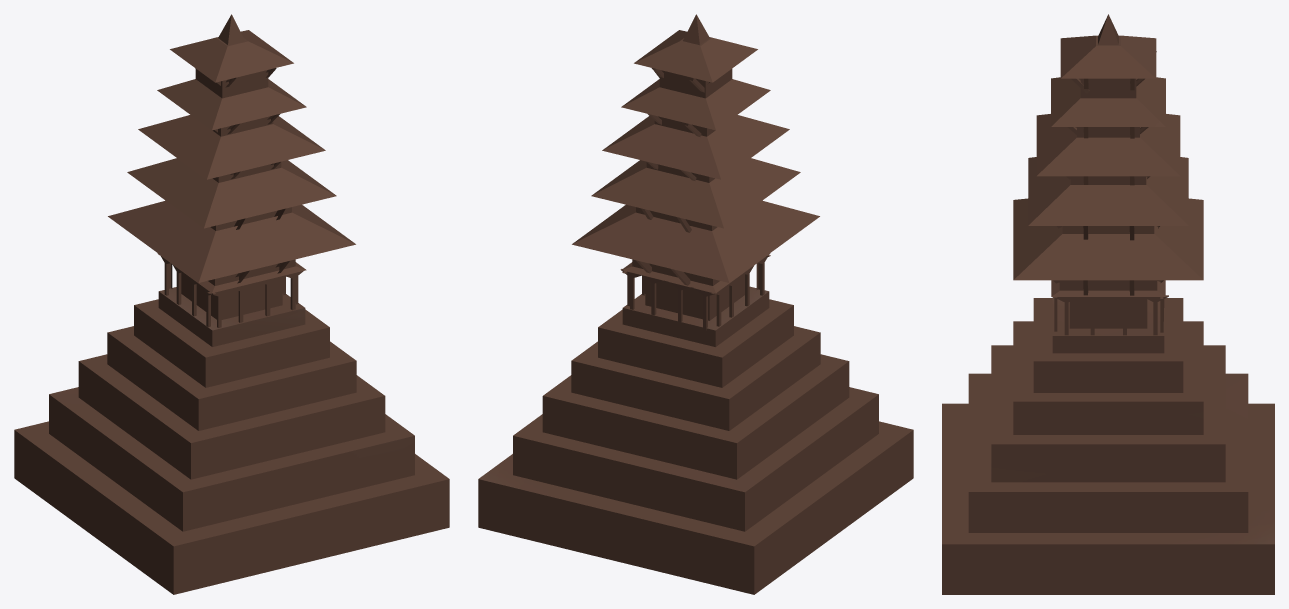
File: nyatapola.fbx
The picture shows the model from 3 angles, left to right: view 1: azimuth 30°, elevation 25°; view 2: azimuth 150°, elevation 25°; view 3: azimuth 270°, elevation 25°; orthographic projection. The views are drawn at different scales.
Visible parts, largest first — view 1: Cube.005; view 2: Cube.005; view 3: Cube.005.
Part boxes in pixels (x1,y1,x2,y2): Cube.005: (14, 14, 449, 594); Cube.005: (478, 14, 913, 594); Cube.005: (942, 14, 1274, 594).
Bounding box in the file's own units: 12.89 × 12.89 × 21.82.
Materials: 5 (5 with a texture image).
